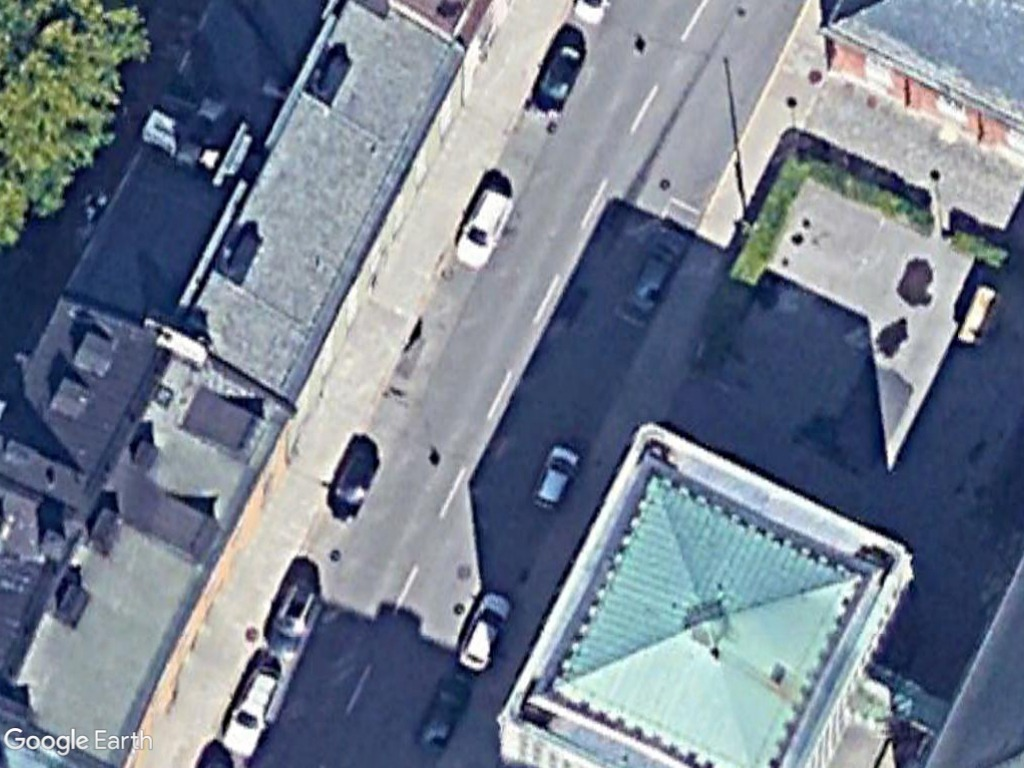car: (213, 659, 283, 762), (448, 177, 516, 273), (450, 587, 513, 680), (529, 30, 593, 120), (262, 568, 324, 657), (324, 441, 382, 525), (527, 434, 583, 517)
